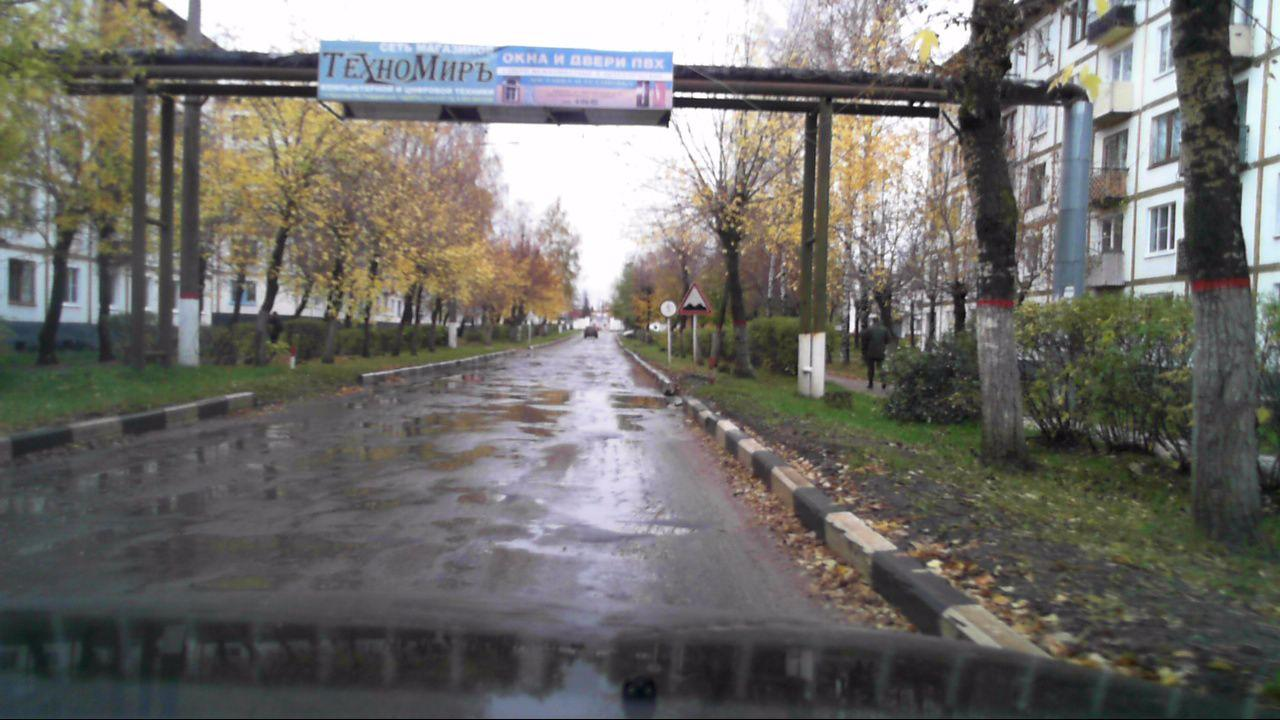road_sign: (677, 279, 715, 314)
